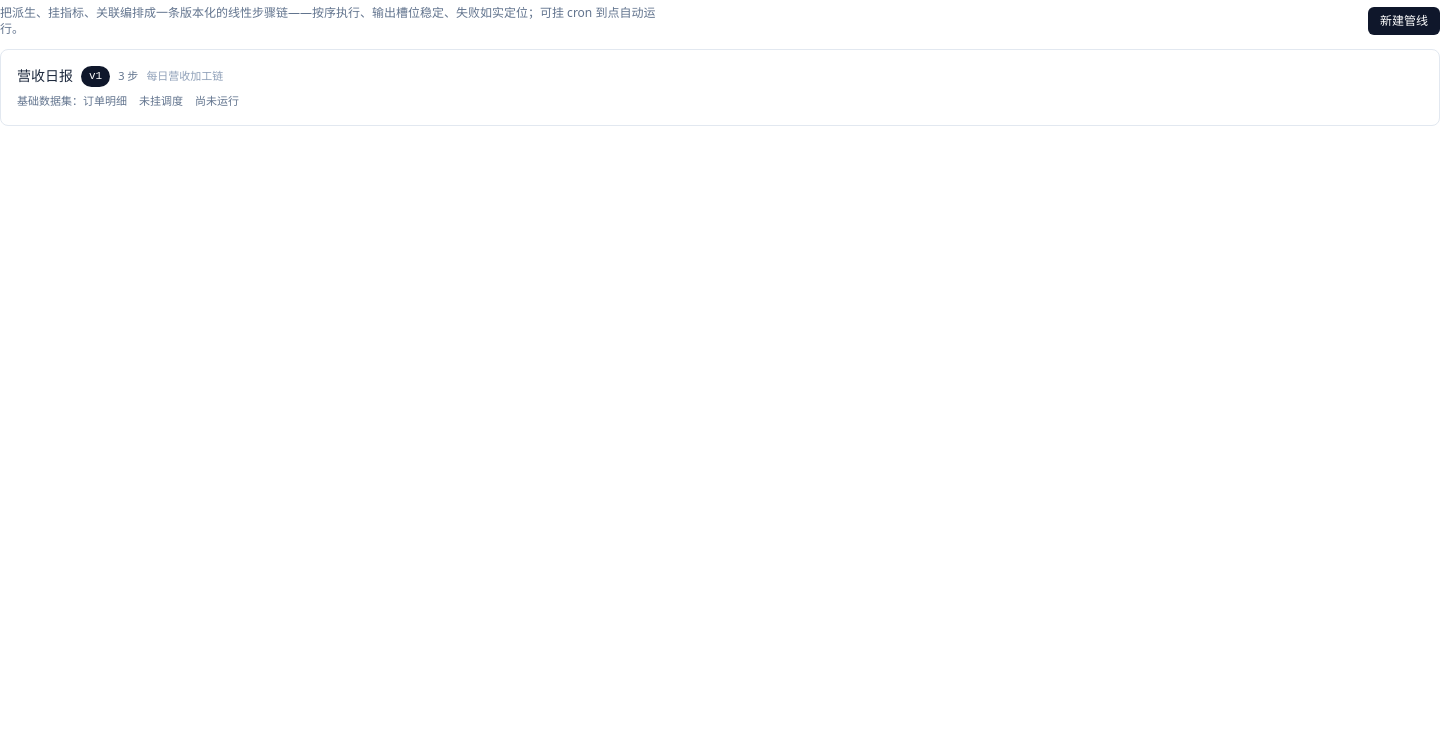
Scenario: 管线工作台 · 编辑器（5.2） › 仅改描述不动版本：无新版本明示，保存后仍 v1
This screenshot has width=1440, height=750.
Click the button with test id "pipeline-row" at (45, 76), box [0, 49, 1439, 126]
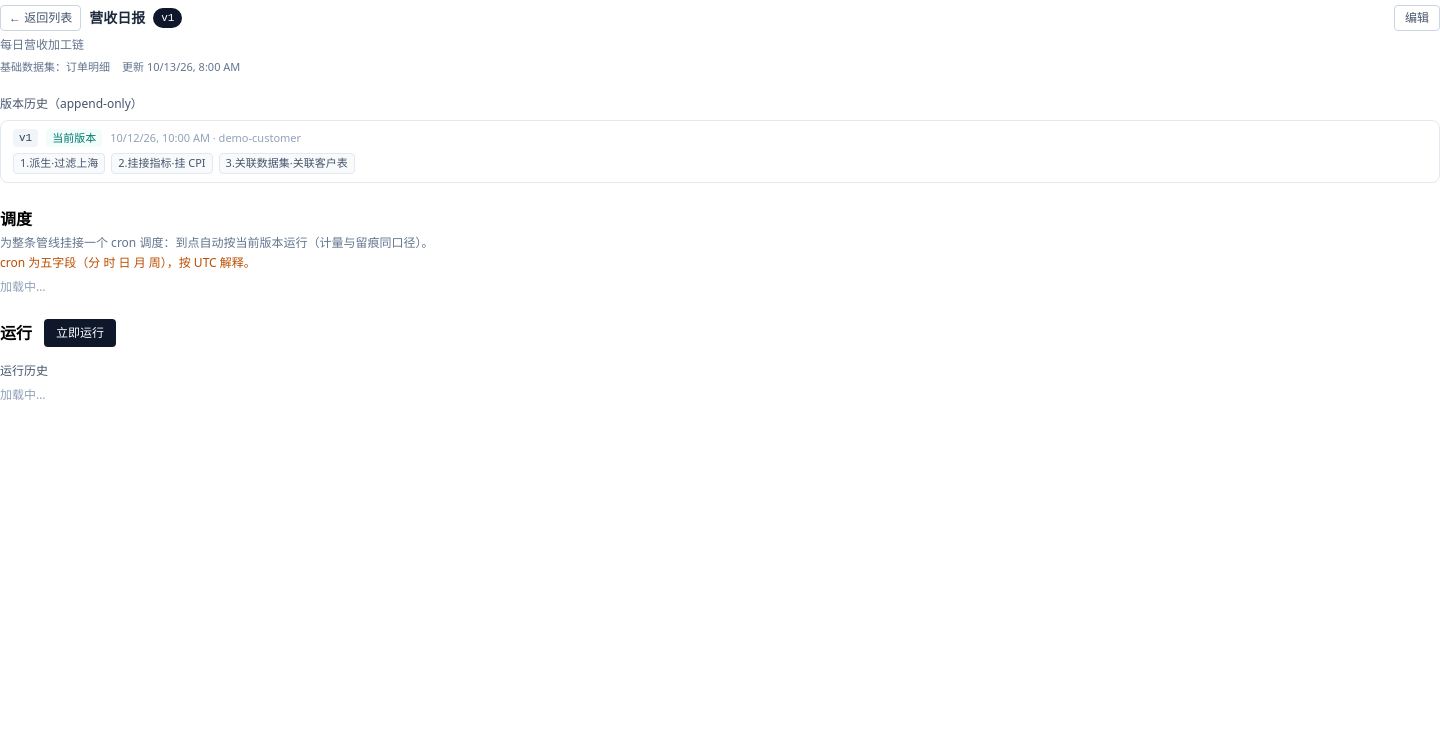
Check: the element with test id "pipeline-detail" is shown, box [0, 5, 1439, 403]
Click the button with test id "pipeline-edit" at (1417, 18), box [1394, 5, 1439, 31]
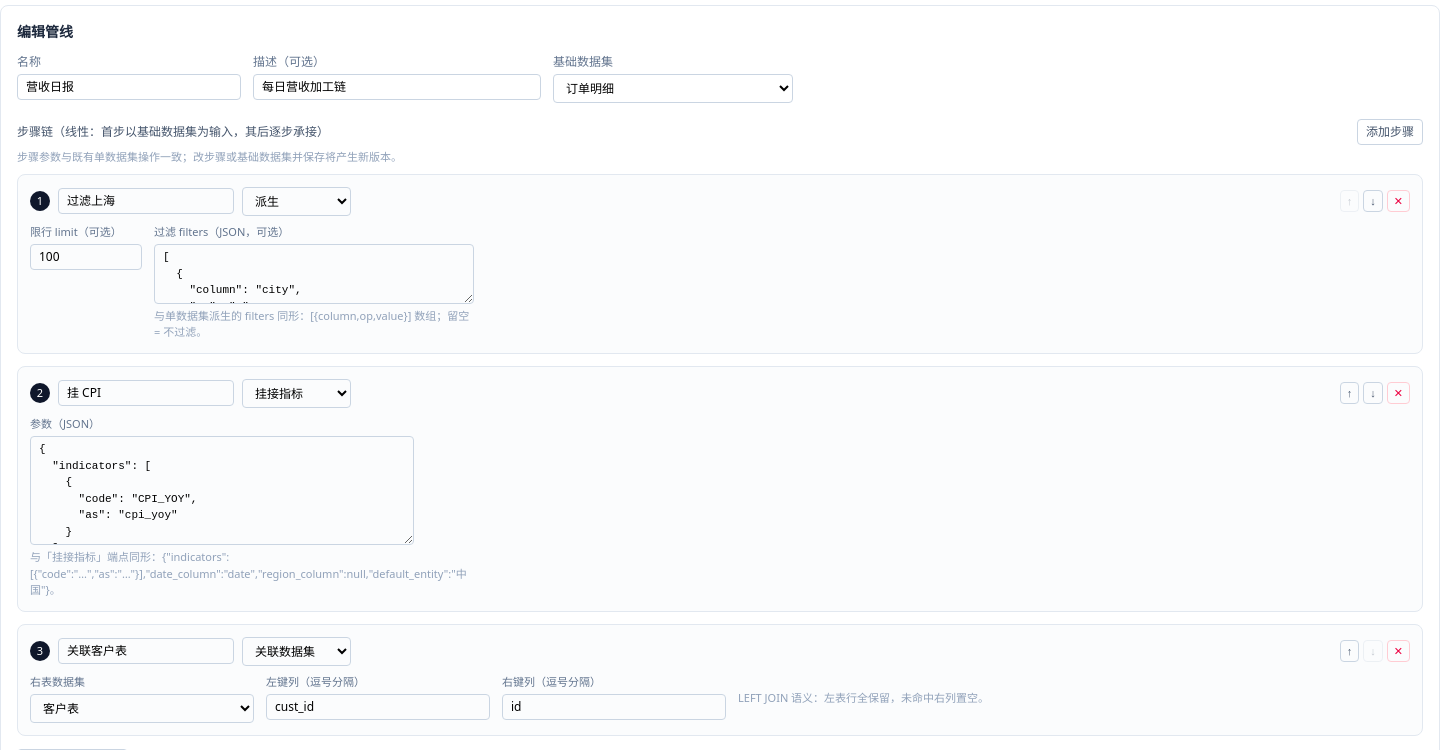
Replace the text in the field with test id "pipeline-editor-desc" with "改个描述" at (397, 87), box [253, 74, 541, 100]
(page scrolled)
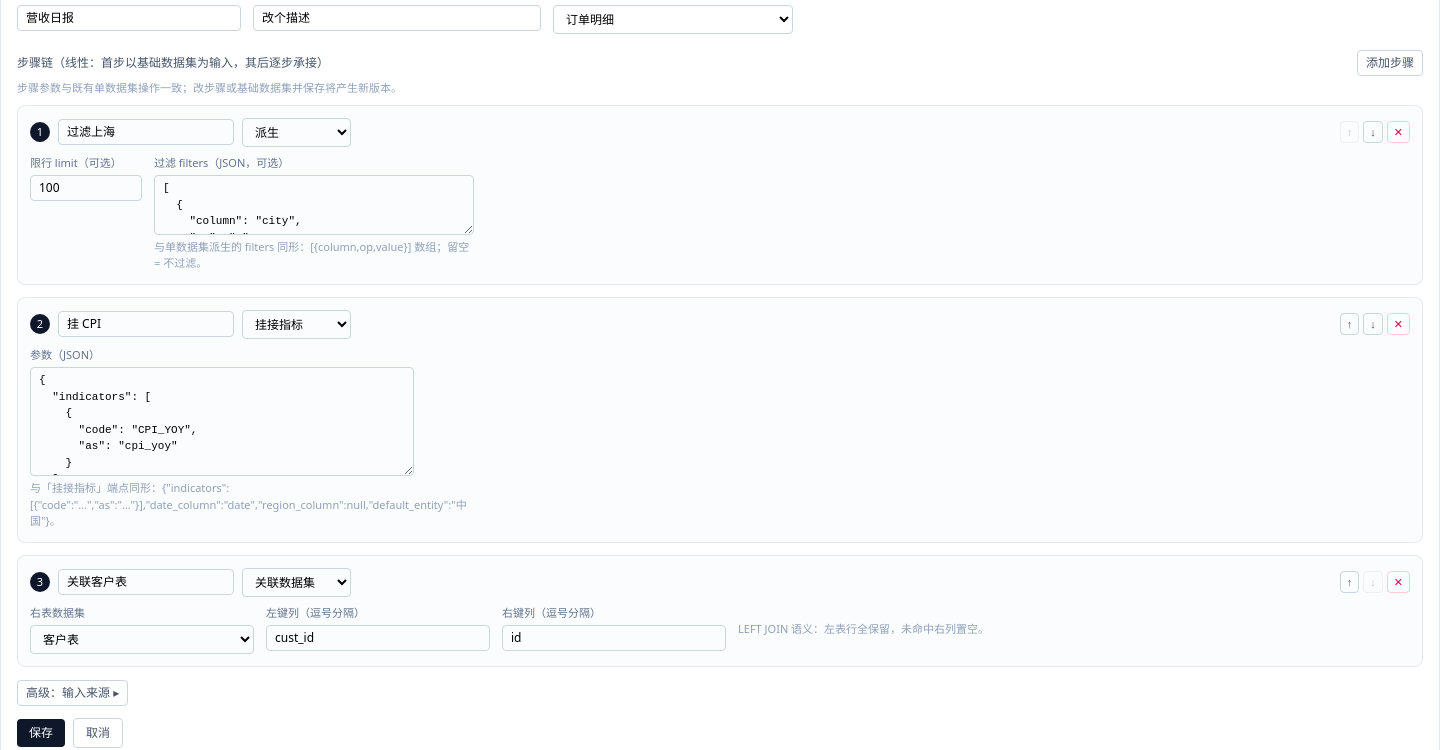
Click the button with test id "pipeline-editor-save" at (41, 733), box [17, 719, 65, 747]
(page scrolled)
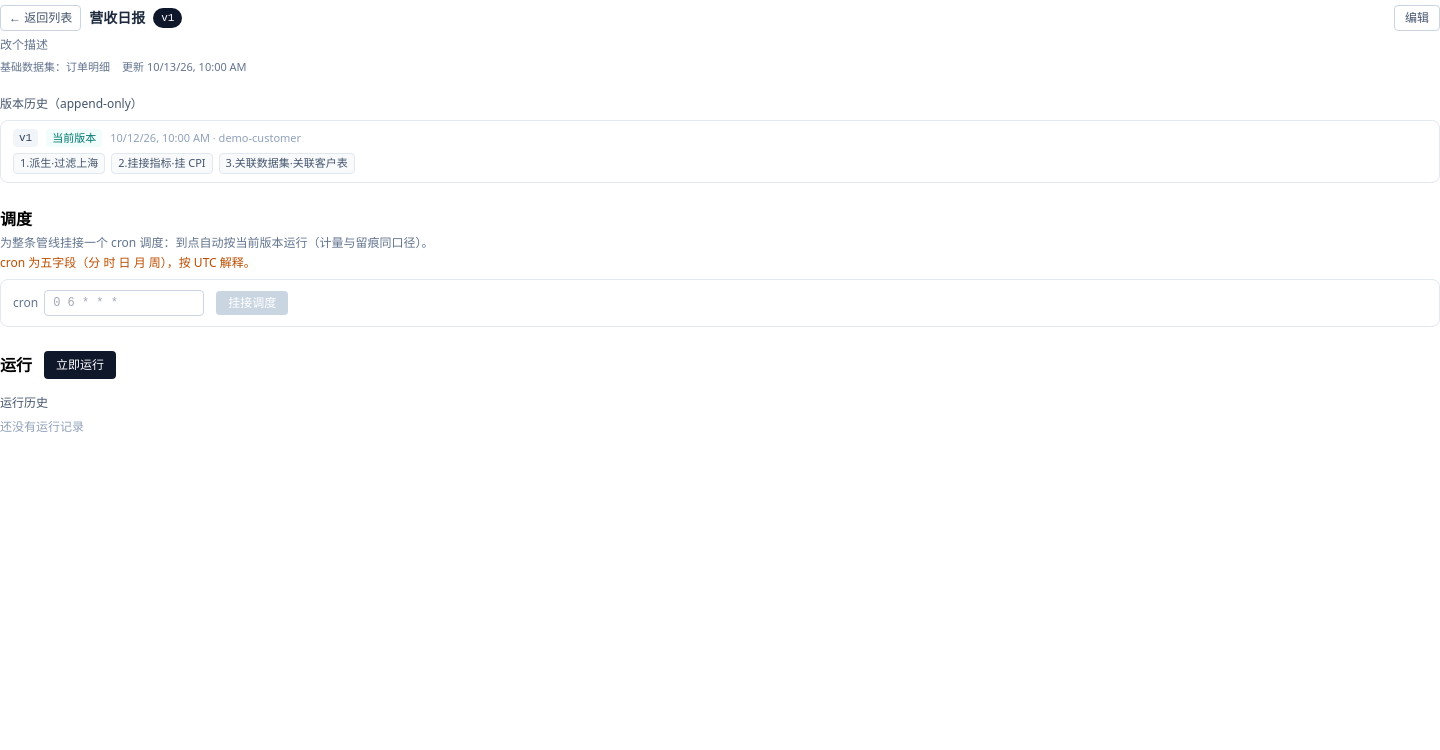
Check: the element with test id "pipeline-detail" is shown, box [0, 5, 1439, 435]
Check: the text with test id "pipeline-detail-version" reads "v1", box [153, 8, 182, 28]
